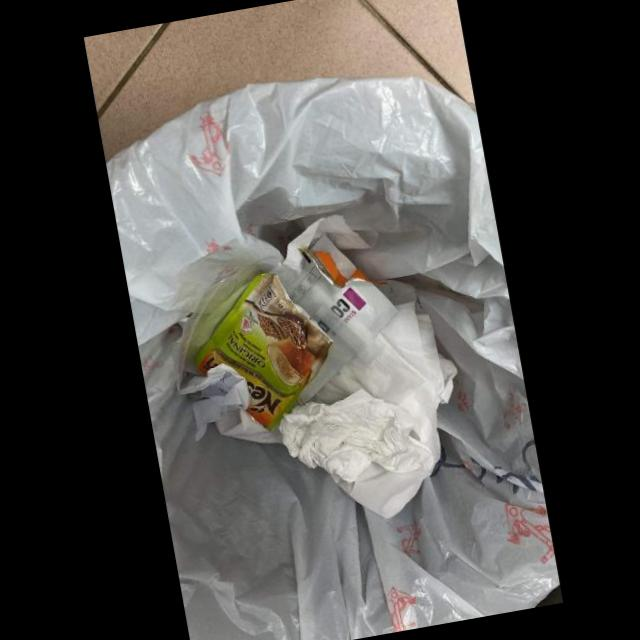bao_bi_thuc_pham: (195, 272, 333, 430)
giay: (278, 299, 458, 517), (277, 388, 434, 483), (177, 363, 282, 443)
